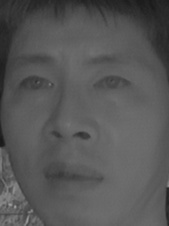eye: (91, 72, 134, 95), (17, 73, 55, 97)
mouth: (38, 154, 107, 195)
